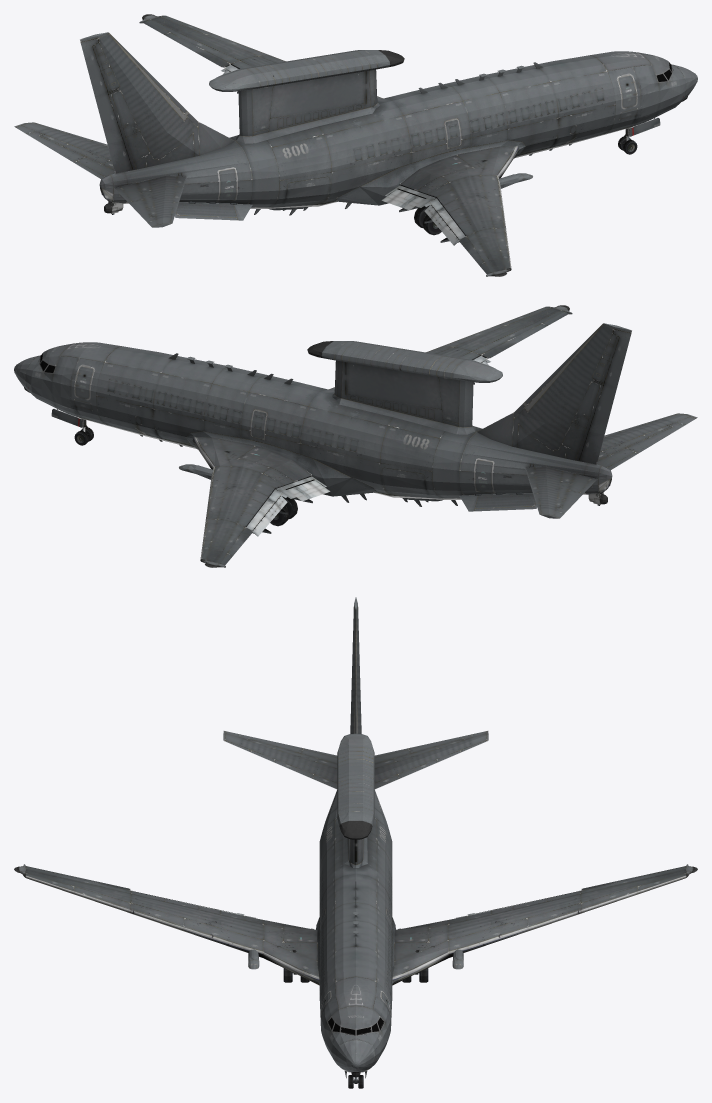
The picture shows the model from 3 angles, top to bottom: view 1: azimuth 30°, elevation 25°; view 2: azimuth 150°, elevation 25°; view 3: azimuth 270°, elevation 25°; orthographic projection. The views are drawn at different scales.
Parts seen in each view (by area): view 1: E_737_E_737_Material__54, Object001_Object001_Material__53; view 2: E_737_E_737_Material__54, Object001_Object001_Material__53; view 3: E_737_E_737_Material__54, Object001_Object001_Material__53.
Boxes of the visible parts, x1,y1,x2,y2 form: E_737_E_737_Material__54: [14, 14, 697, 276]; Object001_Object001_Material__53: [99, 51, 686, 242]; E_737_E_737_Material__54: [14, 305, 697, 567]; Object001_Object001_Material__53: [25, 342, 612, 533]; E_737_E_737_Material__54: [14, 597, 697, 1088]; Object001_Object001_Material__53: [248, 790, 463, 1072].
Bounding box in the file's own units: 4.39 × 1.68 × 4.4.
Materials: 2 (2 with a texture image).
